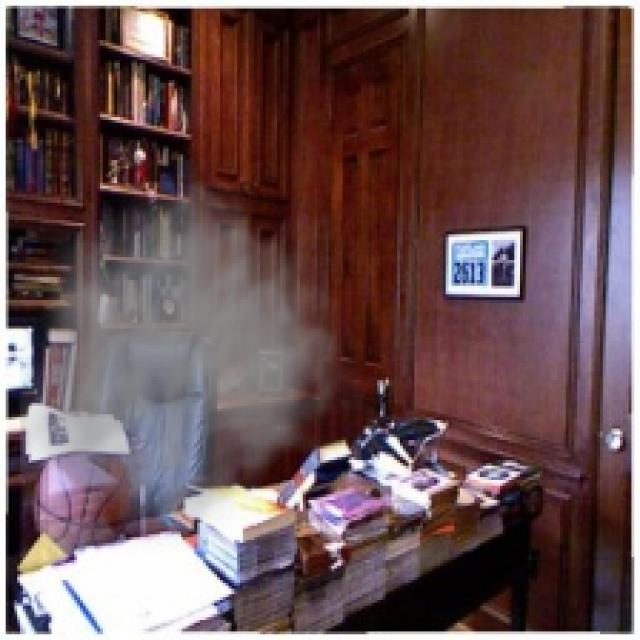smoke: (20, 163, 380, 554)
